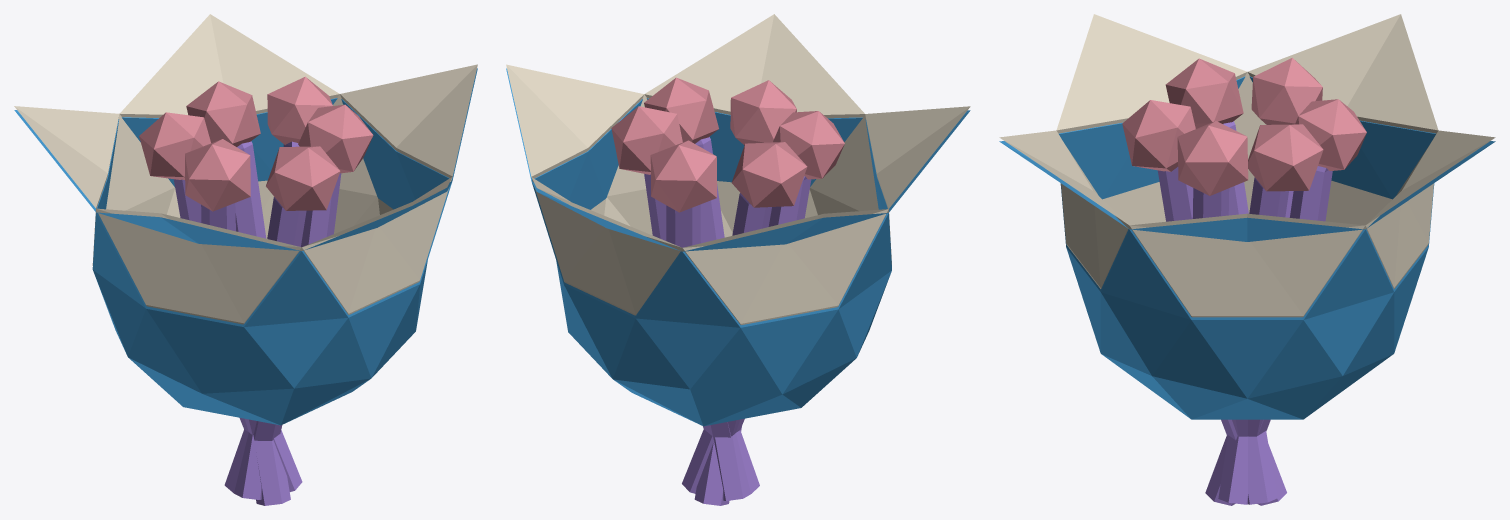
Rendered from flower1.fbx.
3 views of the same model, side by side, from view 1: azimuth 30°, elevation 25°; view 2: azimuth 150°, elevation 25°; view 3: azimuth 270°, elevation 25° (orthographic). The views are drawn at different scales.
Visible parts, largest first — view 1: Icosphere.001, Icosphere, Icosphere.002, Icosphere.004, Icosphere.003; view 2: Icosphere.001, Icosphere, Icosphere.004, Icosphere.002, Icosphere.003; view 3: Icosphere.001, Icosphere, Icosphere.003, Icosphere.002, Icosphere.004.
Part boxes in pixels (x1,y1,x2,y2): Icosphere.001: [14, 14, 477, 324]; Icosphere: [14, 68, 477, 425]; Icosphere.002: [186, 81, 340, 505]; Icosphere.004: [139, 104, 373, 493]; Icosphere.003: [185, 76, 332, 499]; Icosphere.001: [506, 14, 970, 324]; Icosphere: [506, 68, 970, 426]; Icosphere.004: [644, 77, 807, 500]; Icosphere.002: [650, 80, 796, 505]; Icosphere.003: [611, 106, 844, 493]; Icosphere.001: [999, 14, 1495, 317]; Icosphere: [999, 76, 1495, 419]; Icosphere.003: [1165, 58, 1323, 504]; Icosphere.002: [1122, 99, 1366, 505]; Icosphere.004: [1177, 57, 1322, 504].
Size of the model in its own units: 261 by 249 by 274.
